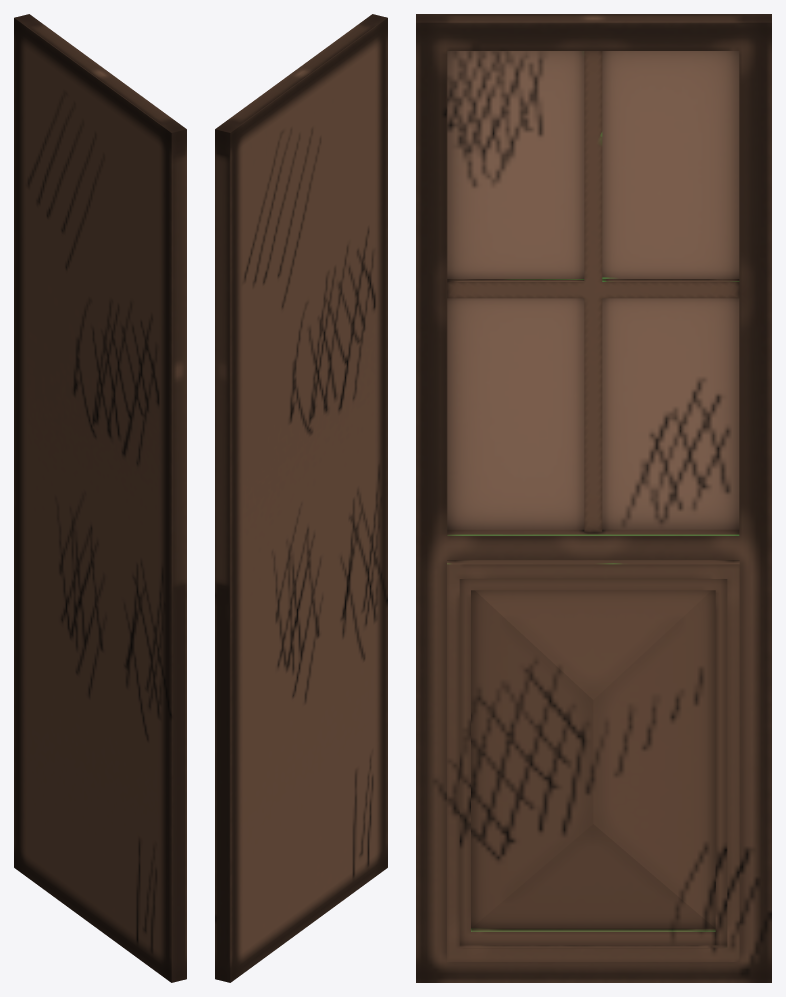
The model's file is Door_02.fbx.
3 views of the same model, side by side, from view 1: azimuth 30°, elevation 25°; view 2: azimuth 150°, elevation 25°; view 3: azimuth 270°, elevation 25° (orthographic). The views are drawn at different scales.
Parts seen in each view (by area): view 1: Door_02; view 2: Door_02; view 3: Door_02.
Boxes of the visible parts, <box> form: Door_02: <box>14,14,186,982</box>; Door_02: <box>215,14,387,982</box>; Door_02: <box>416,14,771,982</box>.
Size of the model in its own units: 5.37 by 184 by 61.74.
